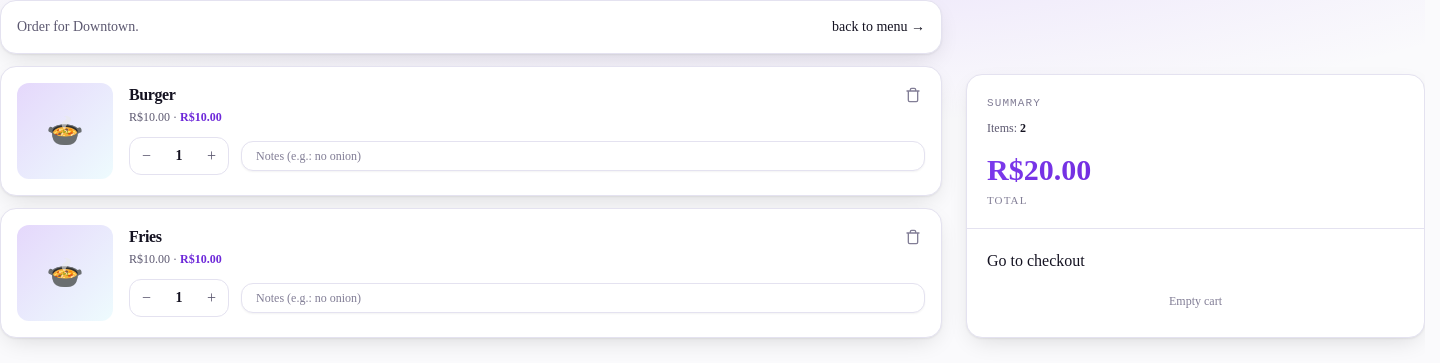
Test case: CartView › removes a line and edits its notes
The image size is (1440, 363).
Expected: the text "Burger" is shown, [129,86,176,103]
Type "no onion" into the field with placeholder "Notes (e.g.: no onion)" below "Burger". click: (583, 156)
box: [241,141,925,171]
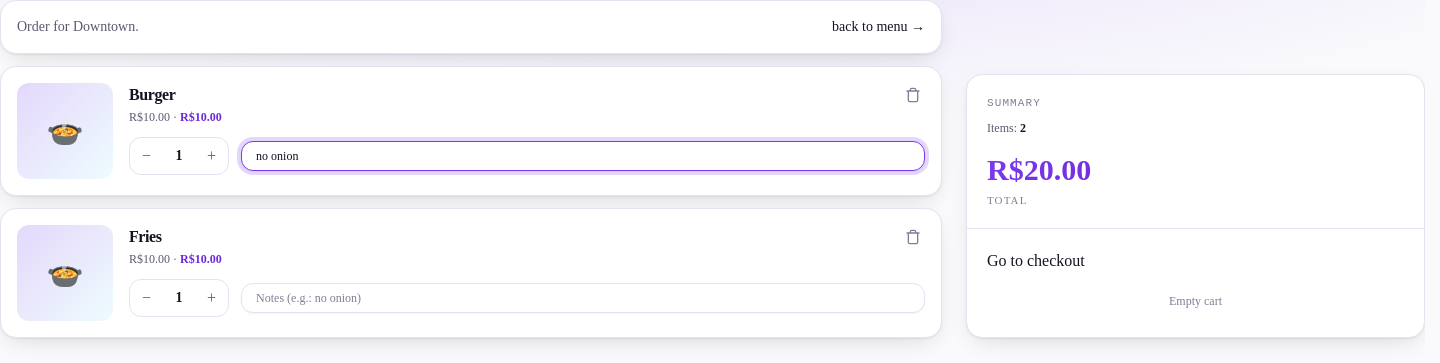
Click the button named "remove" in the row of "Burger". click: (913, 95)
box: [901,83,925,107]
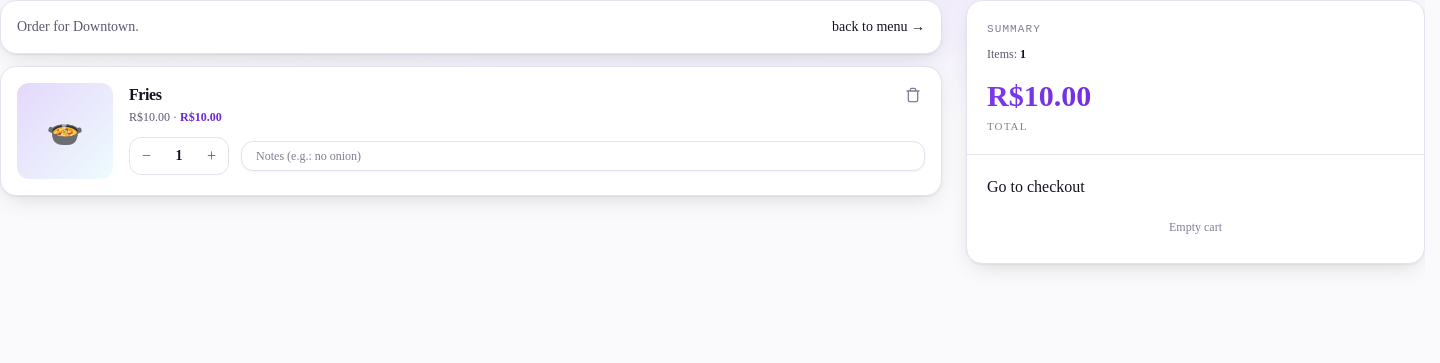
Expected: the text "Fries" is shown, [129,86,162,103]
Result: the text "Burger" is gone
